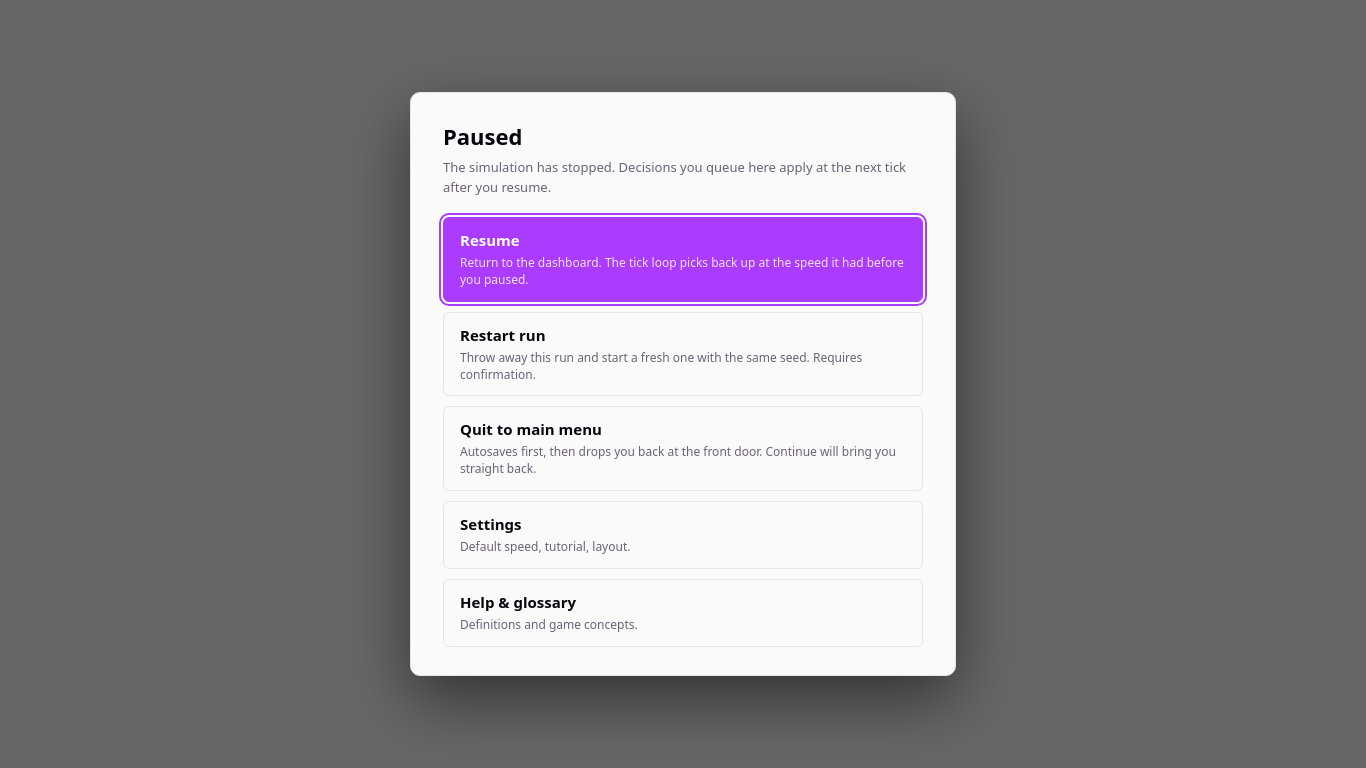
Test: T-036 — Restart requires confirmation and replays with the same seed › clicking Restart opens the confirmation modal; engine stays as-is until confirmed
The width and height of the screenshot is (1366, 768).
Step 1. Click the button with test id "pause-restart" → click(683, 354), box [443, 312, 923, 396]
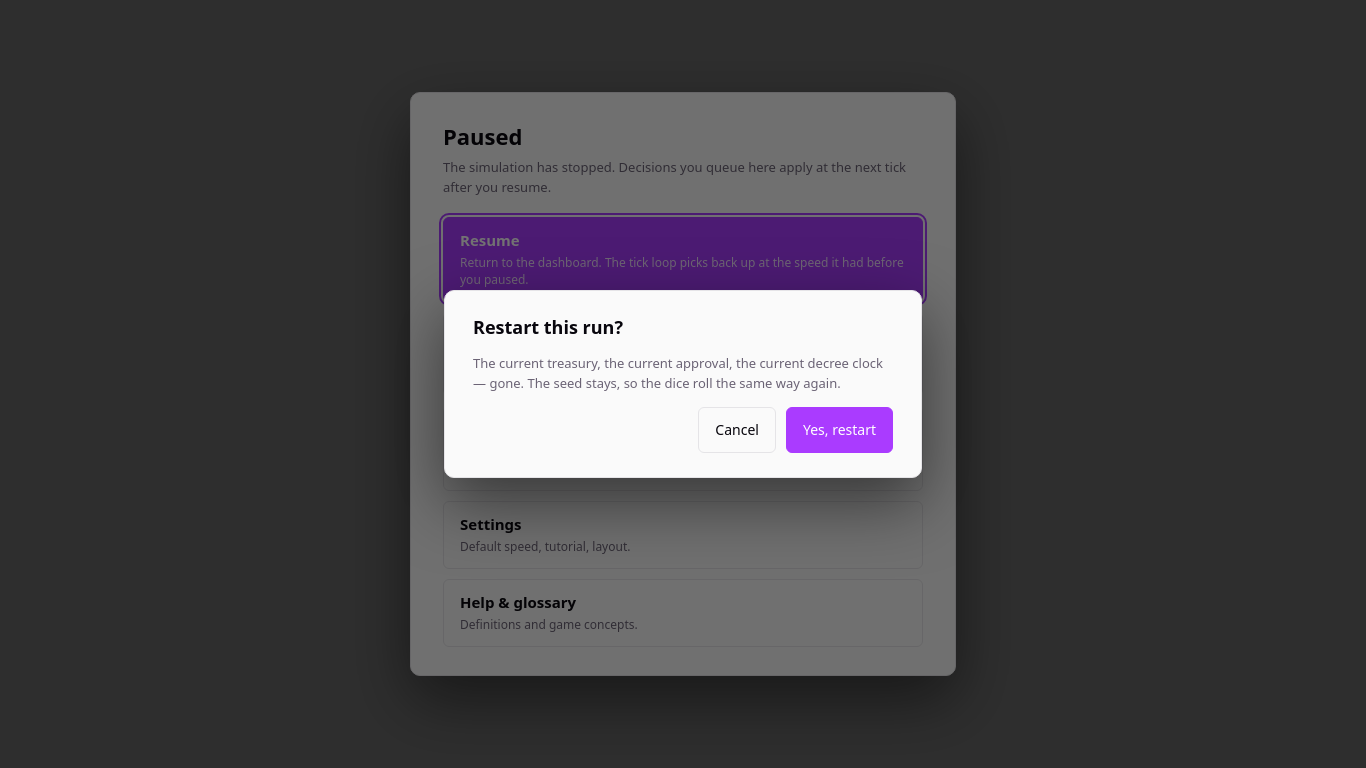
Expected: the dialog with test id "restart-confirm" is shown, [444, 290, 922, 478]
Cancel — engine should still be at tick 1.
Step 2. Click the button with test id "restart-cancel" → click(737, 430), box [698, 407, 776, 453]
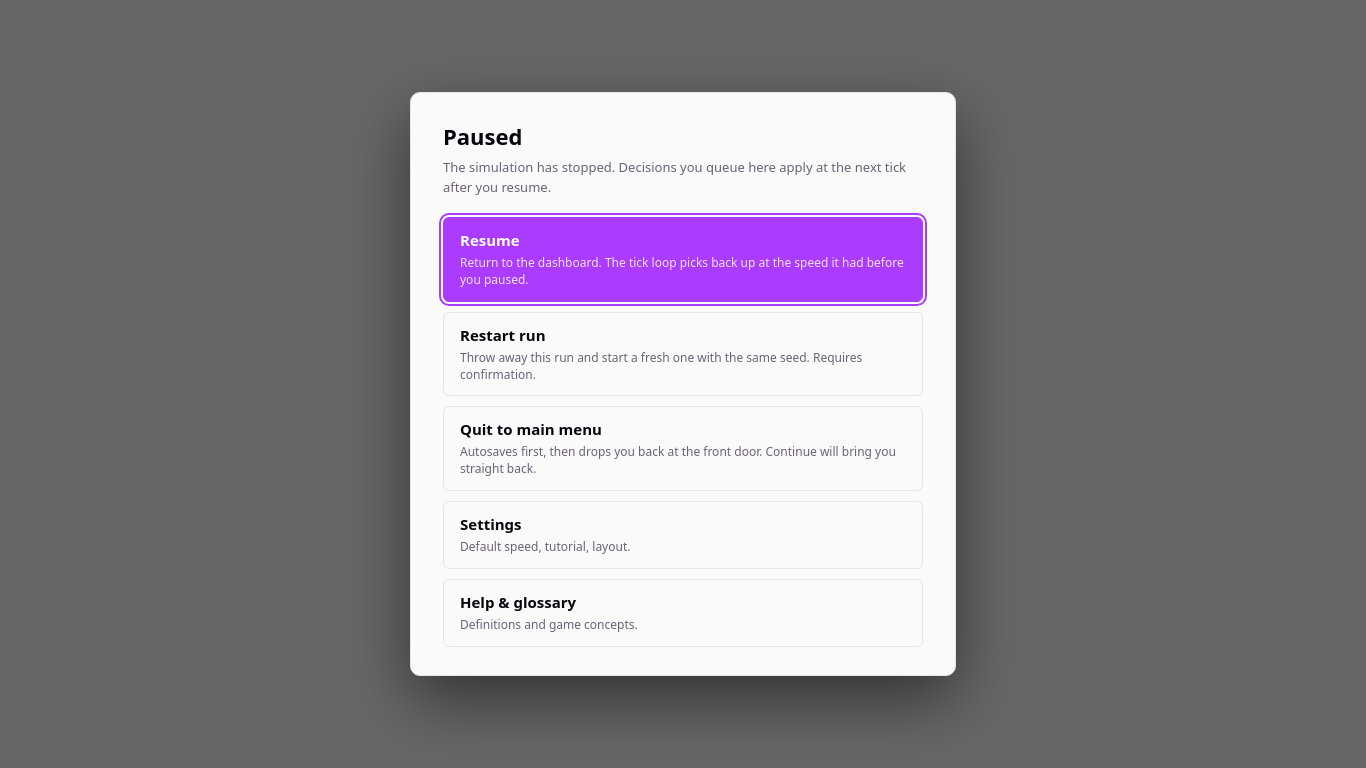
Expected: the dialog with test id "restart-confirm" is gone
